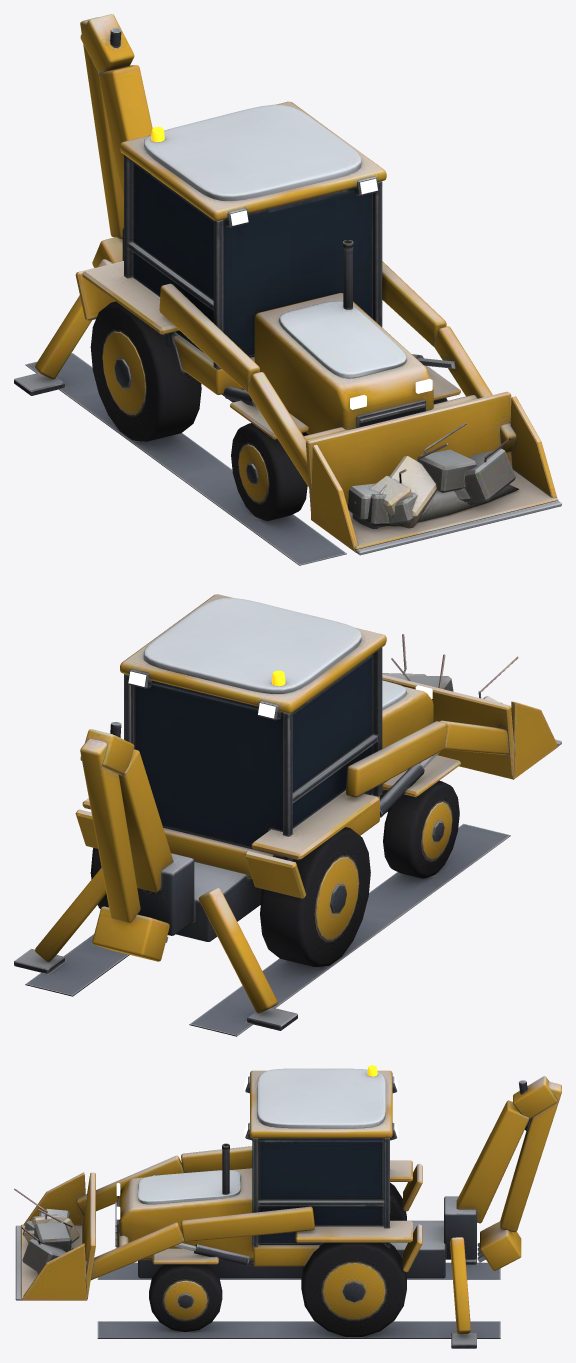
File: backhoe.glb
The picture shows the model from 3 angles, top to bottom: view 1: azimuth 30°, elevation 25°; view 2: azimuth 150°, elevation 25°; view 3: azimuth 270°, elevation 25°; orthographic projection. The views are drawn at different scales.
Parts seen in each view (by area): view 1: backhoe, backhoe_glow; view 2: backhoe, backhoe_glow; view 3: backhoe, backhoe_glow.
Boxes of the visible parts, <box> form: backhoe: <box>14,14,561,565</box>; backhoe_glow: <box>151,126,432,409</box>; backhoe: <box>14,594,561,1036</box>; backhoe_glow: <box>128,670,432,718</box>; backhoe: <box>14,1068,561,1348</box>; backhoe_glow: <box>116,1065,398,1219</box>.
Size of the model in its own units: 3.1 by 3.33 by 7.48.
Materials: 4 (1 with a texture image).
